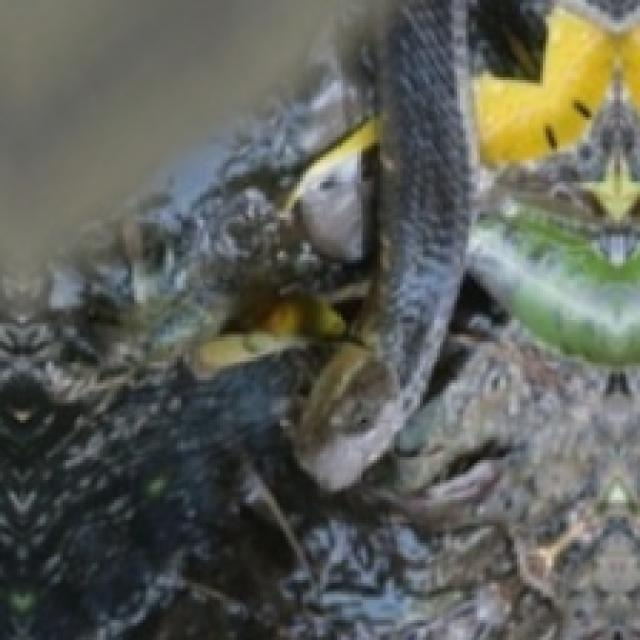king cobra: (0, 0, 637, 637), (283, 0, 637, 489)
